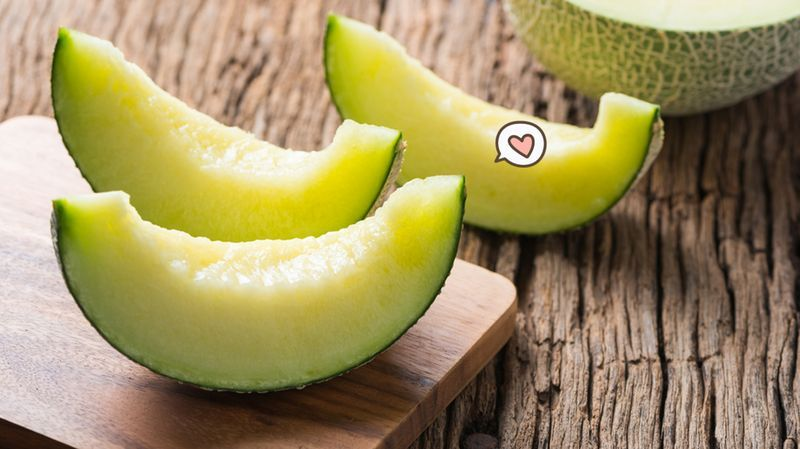Melon: (55, 167, 475, 387), (313, 18, 677, 247), (56, 30, 409, 238)
